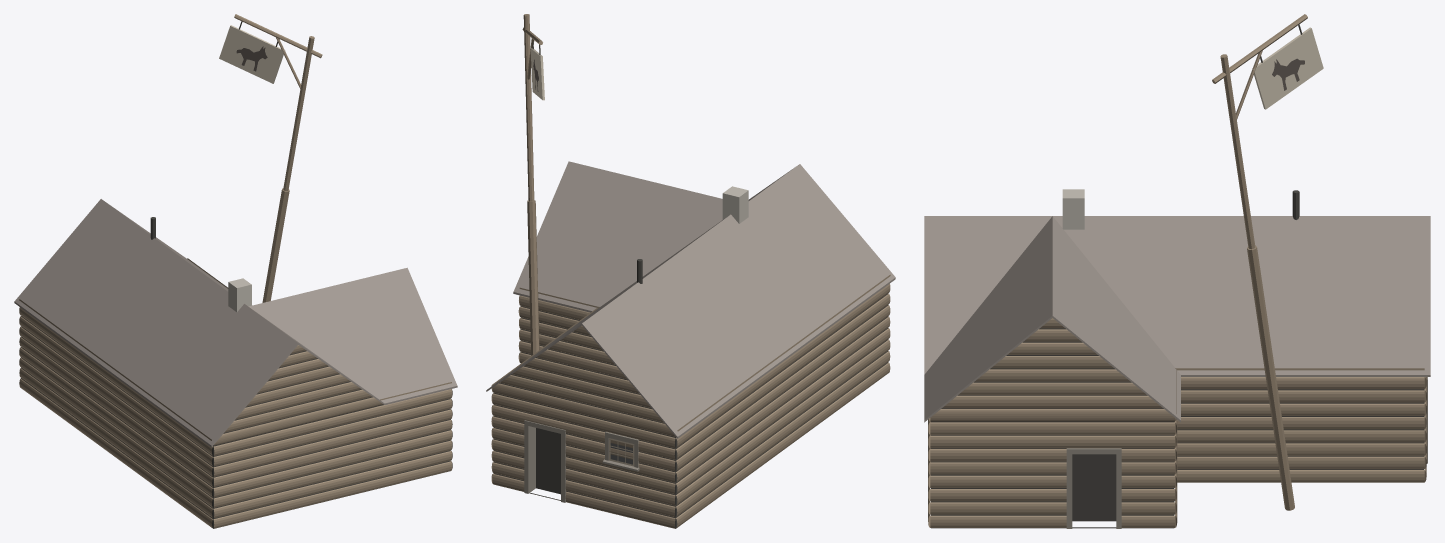
Rendered from wolf_point_tavern__log_frame_1828.glb.
3 views of the same model, side by side, from view 1: azimuth 30°, elevation 25°; view 2: azimuth 150°, elevation 25°; view 3: azimuth 270°, elevation 25° (orthographic). The views are drawn at different scales.
Visible parts, largest first — view 1: wolf_point_tavern__log_frame_1828; view 2: wolf_point_tavern__log_frame_1828; view 3: wolf_point_tavern__log_frame_1828.
Part boxes in pixels (x1,y1,x2,y2): wolf_point_tavern__log_frame_1828: (14, 14, 457, 528); wolf_point_tavern__log_frame_1828: (486, 14, 895, 528); wolf_point_tavern__log_frame_1828: (924, 14, 1430, 528).
Size of the model in its own units: 7.44 by 11.02 by 10.34.
